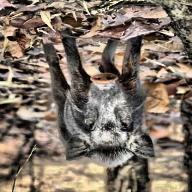boar: (28, 26, 160, 169)
